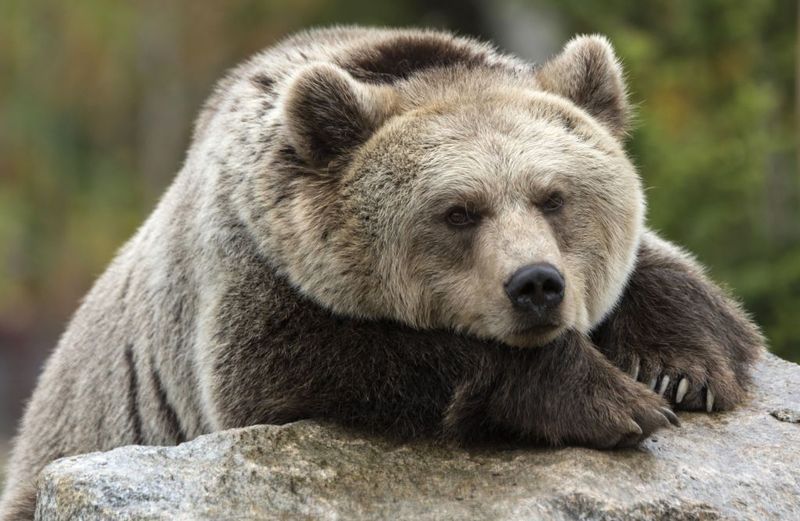bear: (275, 28, 653, 352)
